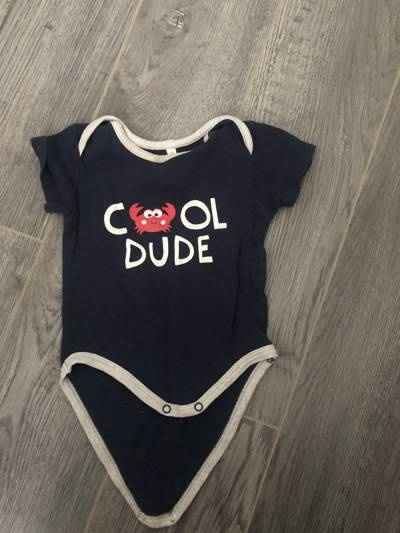Body: (21, 94, 311, 529)
